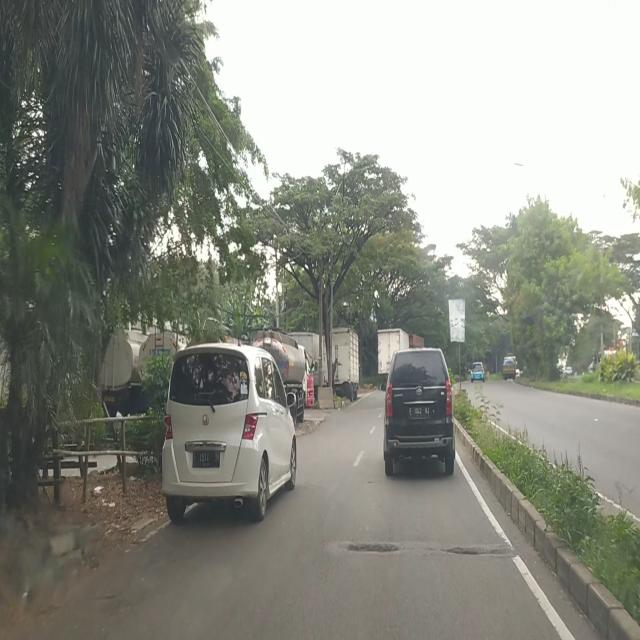Sewer Cover: (340, 543, 507, 558)
